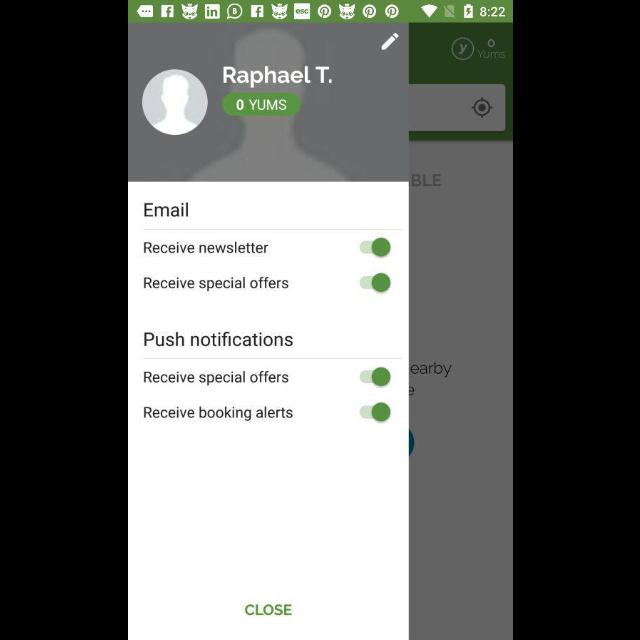icon: (141, 69, 207, 135), (381, 33, 399, 51)
panel: (128, 24, 408, 640)
switch: (359, 238, 391, 258), (359, 367, 391, 387), (358, 402, 390, 422), (360, 273, 390, 293)
text: (222, 65, 332, 89), (143, 405, 293, 421), (144, 331, 292, 347), (142, 370, 288, 386), (142, 278, 288, 292), (143, 241, 269, 255), (144, 202, 188, 218), (244, 604, 292, 616)
textbutton: (222, 94, 300, 116)
uppertaskbar: (128, 1, 512, 23)
